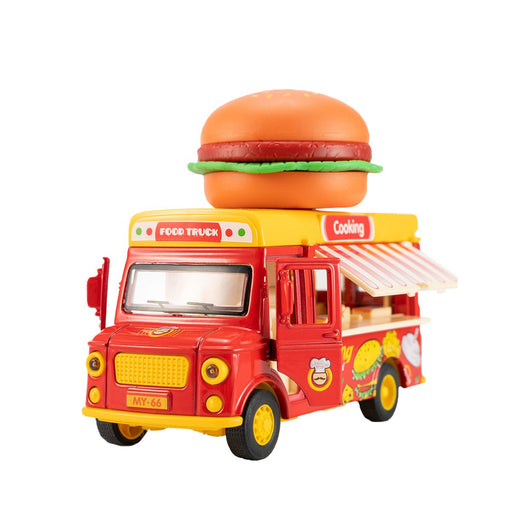toy: (60, 59, 473, 486)
